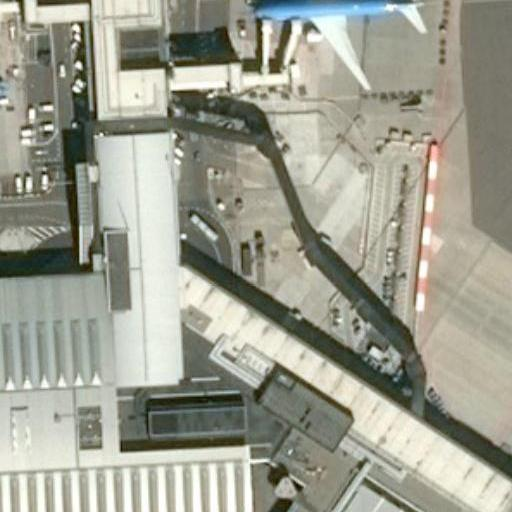Aircraft: (229, 0, 441, 91)
